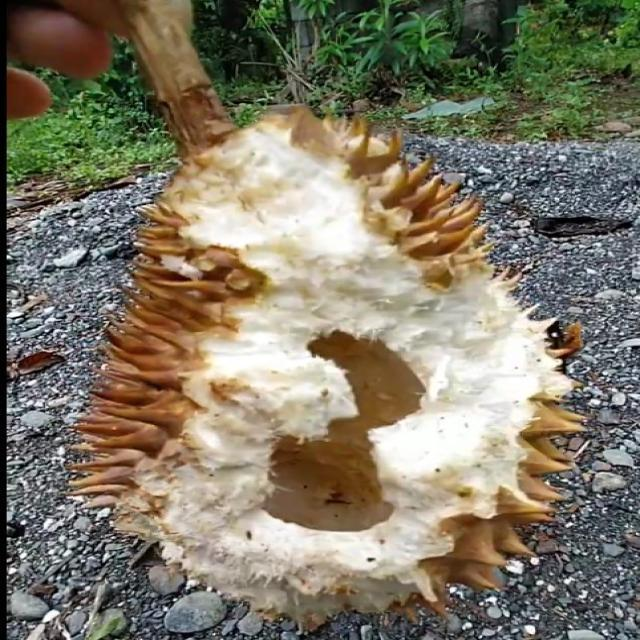defective: (78, 102, 590, 627)
